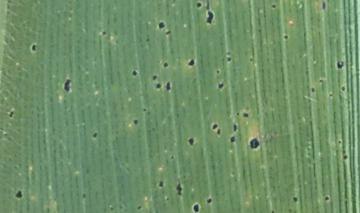tarspot: (60, 75, 76, 95), (246, 135, 262, 152), (333, 56, 346, 74), (173, 180, 185, 197), (11, 187, 26, 200), (162, 79, 175, 94), (183, 134, 198, 147), (205, 8, 215, 27), (190, 200, 204, 213), (287, 191, 300, 205), (185, 55, 197, 70), (316, 1, 331, 13), (127, 66, 140, 79), (5, 107, 19, 119), (156, 17, 168, 31), (307, 84, 318, 99), (155, 177, 167, 190), (244, 54, 258, 65), (167, 151, 178, 165), (160, 59, 173, 70), (29, 40, 39, 54), (208, 120, 220, 131), (336, 136, 347, 148), (77, 191, 90, 201), (98, 29, 111, 39), (314, 76, 327, 86), (337, 154, 351, 163), (149, 71, 160, 82), (230, 123, 241, 134), (133, 202, 144, 213), (204, 195, 214, 207), (339, 82, 347, 97), (229, 134, 238, 147), (242, 109, 250, 123), (131, 116, 141, 127), (90, 130, 100, 140), (281, 33, 291, 43), (217, 80, 226, 91), (195, 1, 204, 11), (322, 194, 332, 203), (269, 2, 277, 13), (266, 206, 278, 213), (154, 80, 162, 90), (214, 66, 222, 76), (234, 109, 242, 119), (225, 56, 232, 65)
